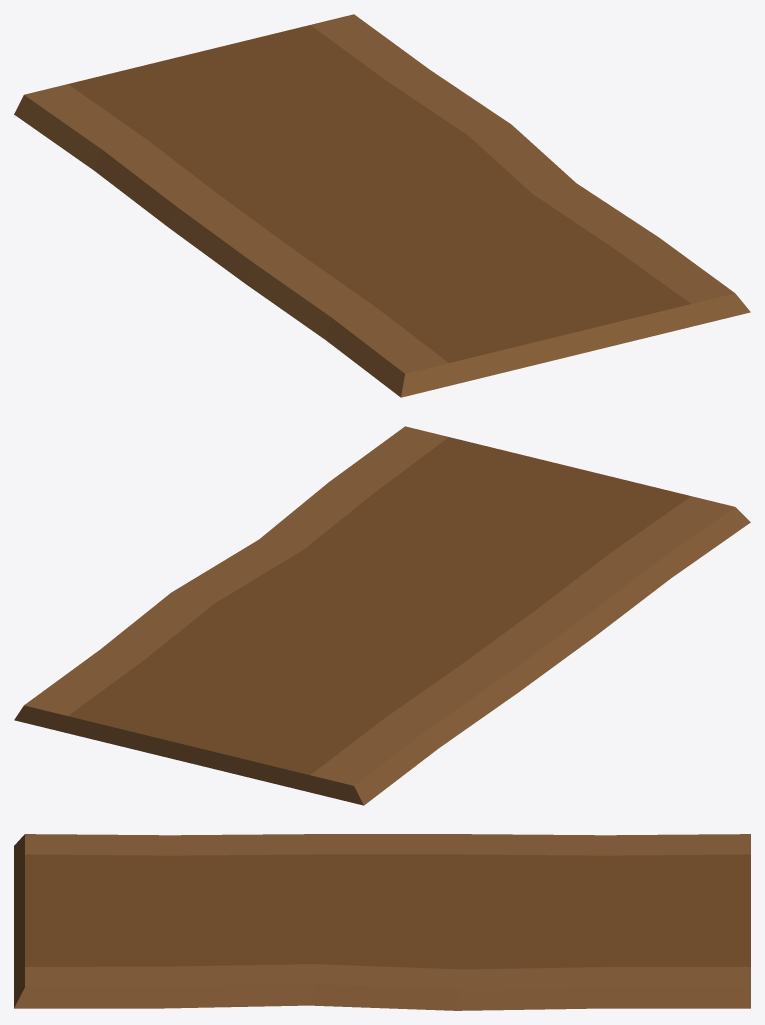
The model's file is Path_01.fbx.
3 views of the same model, one above another, from view 1: azimuth 30°, elevation 25°; view 2: azimuth 150°, elevation 25°; view 3: azimuth 270°, elevation 25° (orthographic). The views are drawn at different scales.
Parts seen in each view (by area): view 1: Path_01; view 2: Path_01; view 3: Path_01.
Boxes of the visible parts, box(x1,y1,x2,y2) form: Path_01: box(14, 14, 750, 397); Path_01: box(14, 426, 750, 805); Path_01: box(14, 834, 750, 1010).
Bounding box in the file's own units: 108 × 5 × 203.
